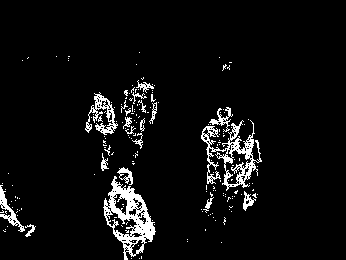person: (102, 164, 155, 260), (199, 105, 240, 215), (222, 117, 260, 215), (121, 75, 158, 166), (84, 90, 118, 173)
